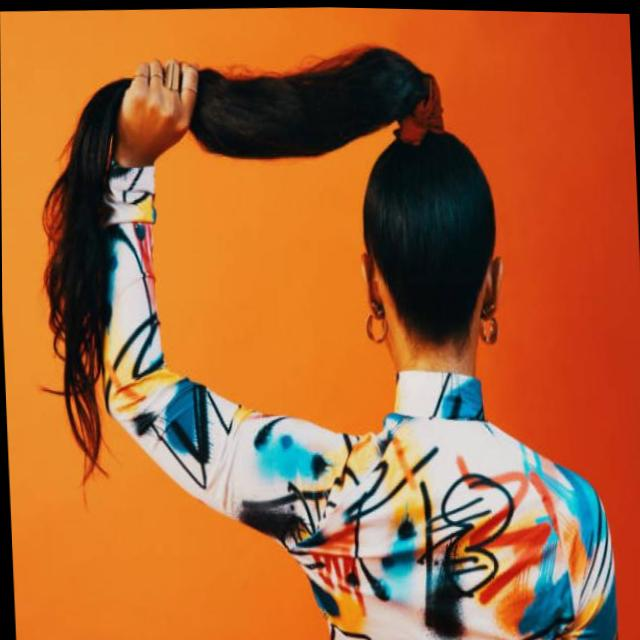no helmet: (348, 126, 506, 390)
